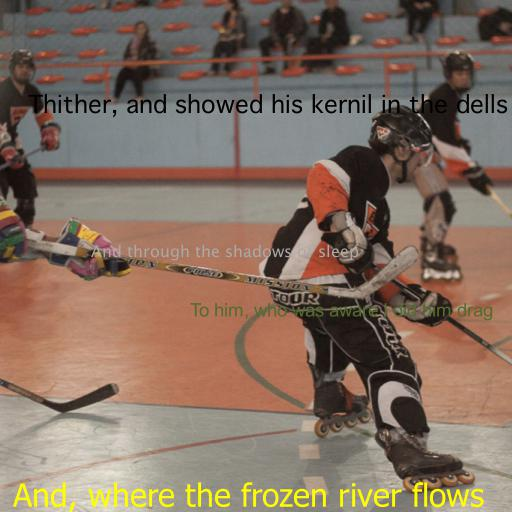Arial: (189, 303, 493, 321)
Geneva: (28, 94, 508, 118)
Lucida Grande: (91, 244, 359, 261)
Tahoma: (12, 482, 484, 512)
